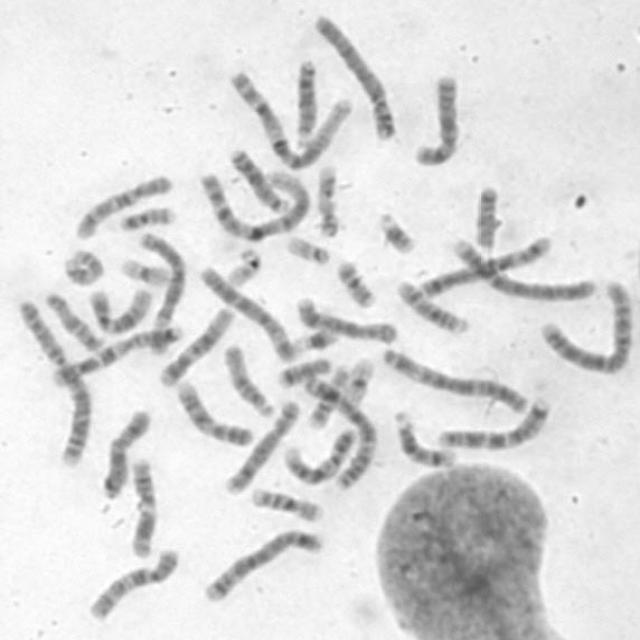A1: (226, 64, 355, 172), (197, 167, 312, 242)
A2: (12, 298, 95, 466), (537, 276, 634, 378)
A3: (377, 344, 532, 414), (302, 372, 379, 490)
B4: (309, 9, 399, 143), (448, 236, 598, 305)
B5: (198, 526, 325, 605), (414, 233, 555, 300)
C10: (83, 545, 182, 623), (70, 172, 174, 242)
C11: (124, 454, 160, 560)
C12: (156, 303, 237, 389), (88, 284, 154, 336)
C6: (197, 263, 298, 362), (131, 228, 189, 354)
C7: (46, 322, 184, 387), (430, 394, 552, 450)
C8: (222, 397, 301, 496), (291, 293, 399, 345)
C9: (174, 378, 256, 448), (279, 424, 359, 488)
D13: (225, 145, 291, 214), (291, 56, 320, 149)
D14: (389, 406, 459, 470), (394, 277, 471, 335)
D15: (41, 289, 108, 355), (220, 341, 276, 419)
E16: (246, 484, 326, 524), (309, 366, 349, 426)
E17: (313, 162, 340, 237), (59, 245, 105, 287)
E18: (273, 352, 333, 390), (470, 181, 501, 251)
F19: (336, 354, 376, 409), (116, 255, 172, 288)
F20: (332, 256, 378, 310), (117, 203, 177, 233)
G21: (374, 207, 418, 257), (292, 324, 341, 353)
G22: (221, 244, 262, 289), (282, 232, 332, 266)
X: (98, 406, 152, 500), (411, 71, 462, 168)
